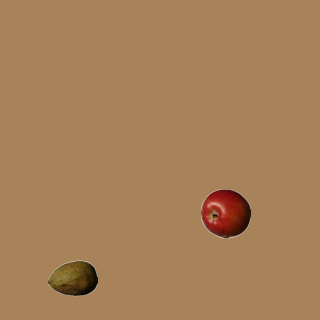Apple Braeburn: (200, 188, 250, 238)
Papaya: (47, 253, 97, 303)
